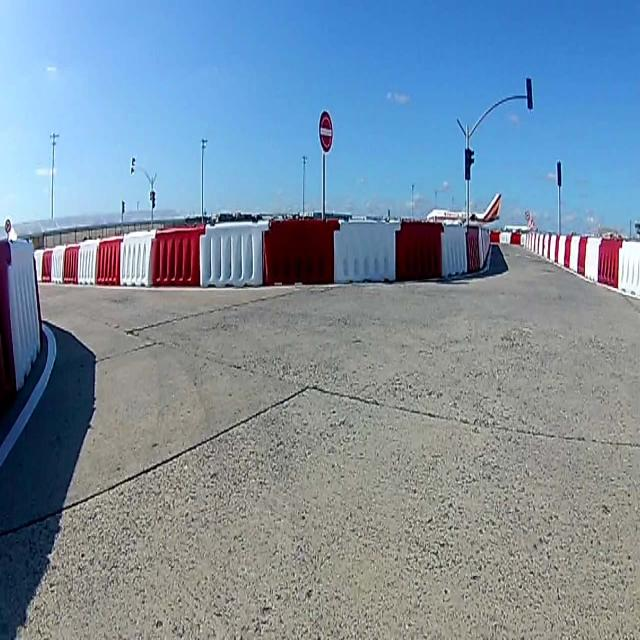girisyok: (319, 111, 333, 153)
